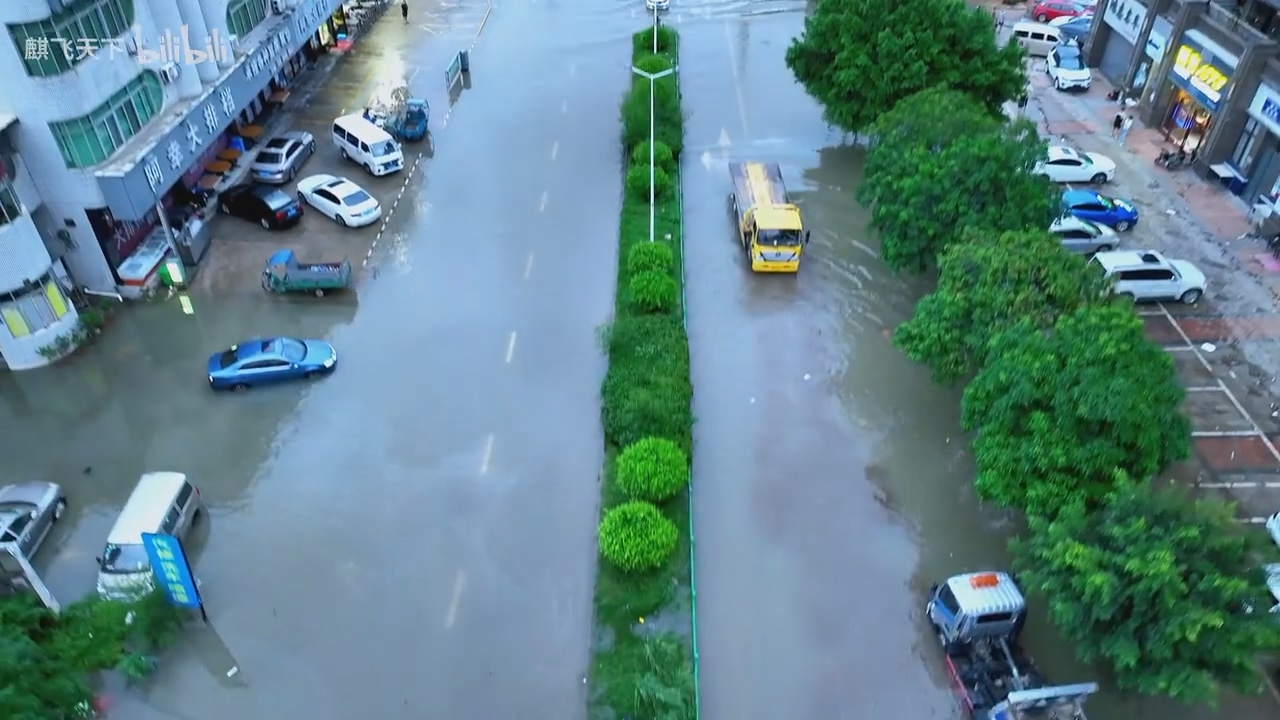puddle: (324, 139, 955, 720)
